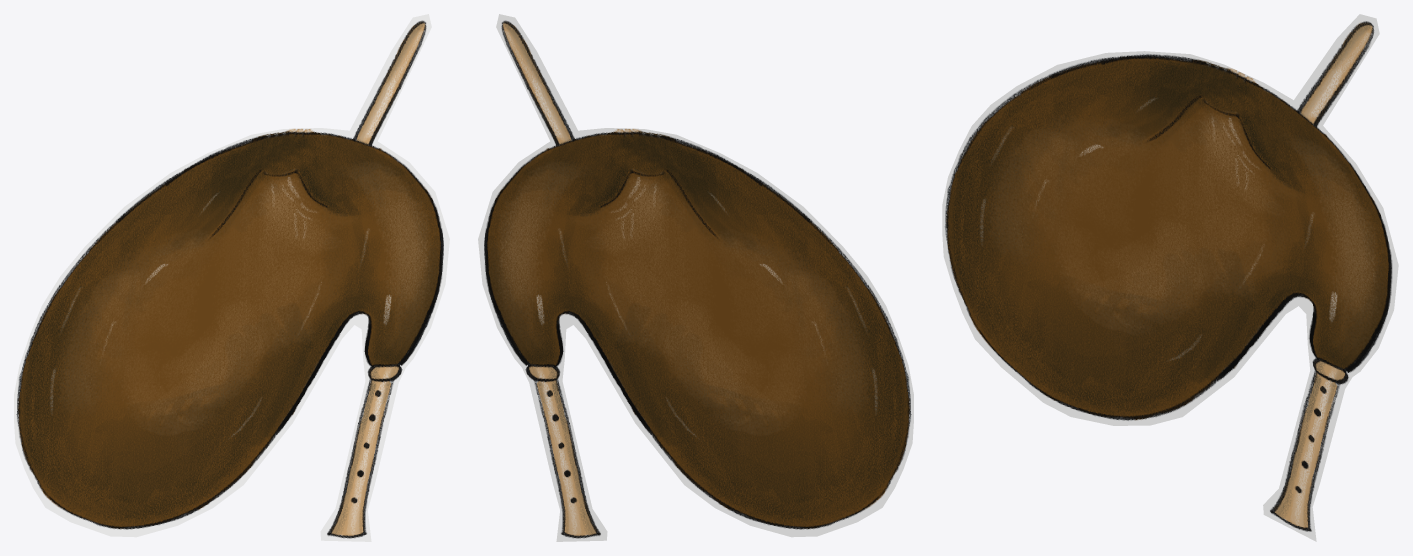
The model's file is mech.glb.
3 views of the same model, side by side, from view 1: azimuth 30°, elevation 25°; view 2: azimuth 150°, elevation 25°; view 3: azimuth 330°, elevation 25° (orthographic). The views are drawn at different scales.
Parts seen in each view (by area): view 1: Plane; view 2: Plane; view 3: Plane.
Part boxes in pixels (box(x1,y1,x2,y2)): Plane: box(14, 14, 449, 541); Plane: box(478, 14, 913, 541); Plane: box(942, 14, 1398, 541).
Bounding box in the file's own units: 12.53 × 14.13 × 0.
Materials: 1 (1 with a texture image).
